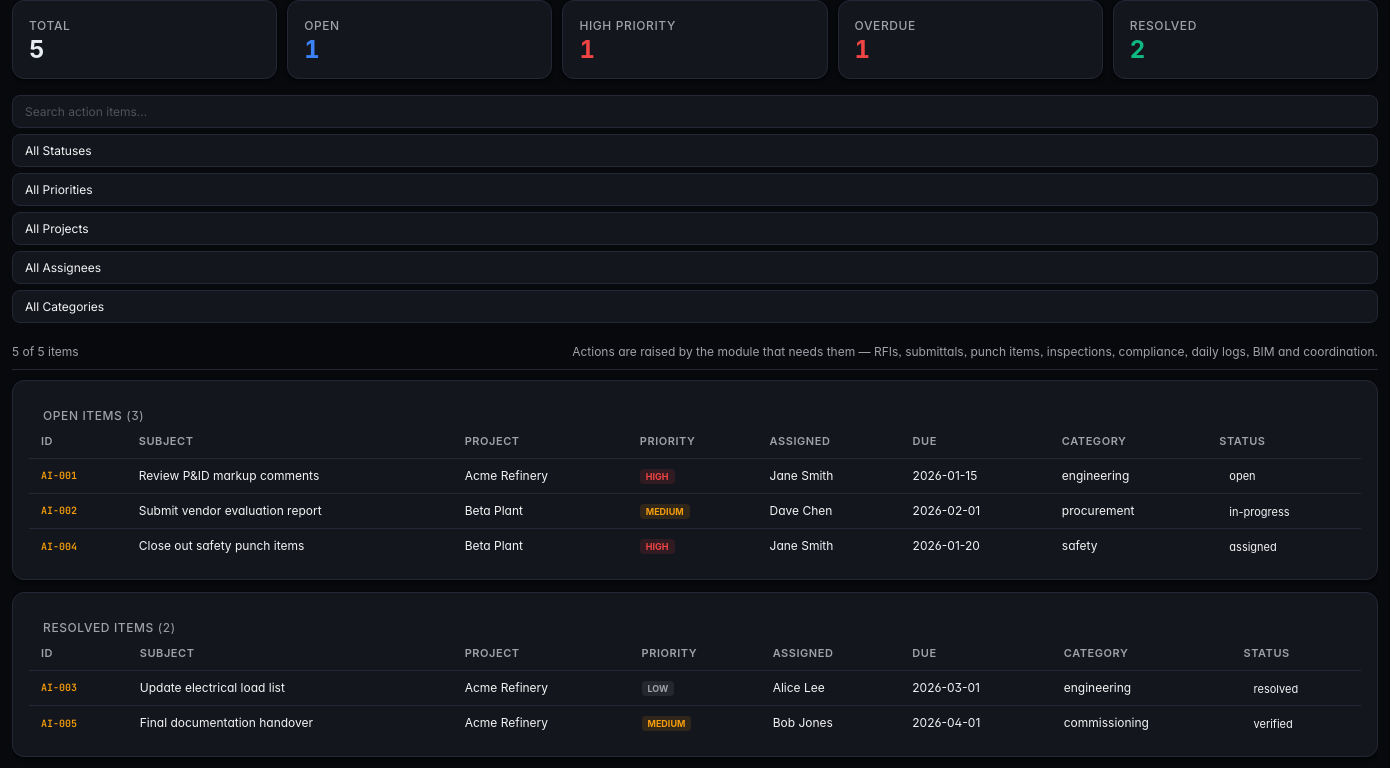
it: ActionItemsView — filters › status filter shows only matching items
This screenshot has width=1390, height=768.
Select "resolved" in the dropdown named "filter by status": (695, 150) [12, 134, 1378, 167]
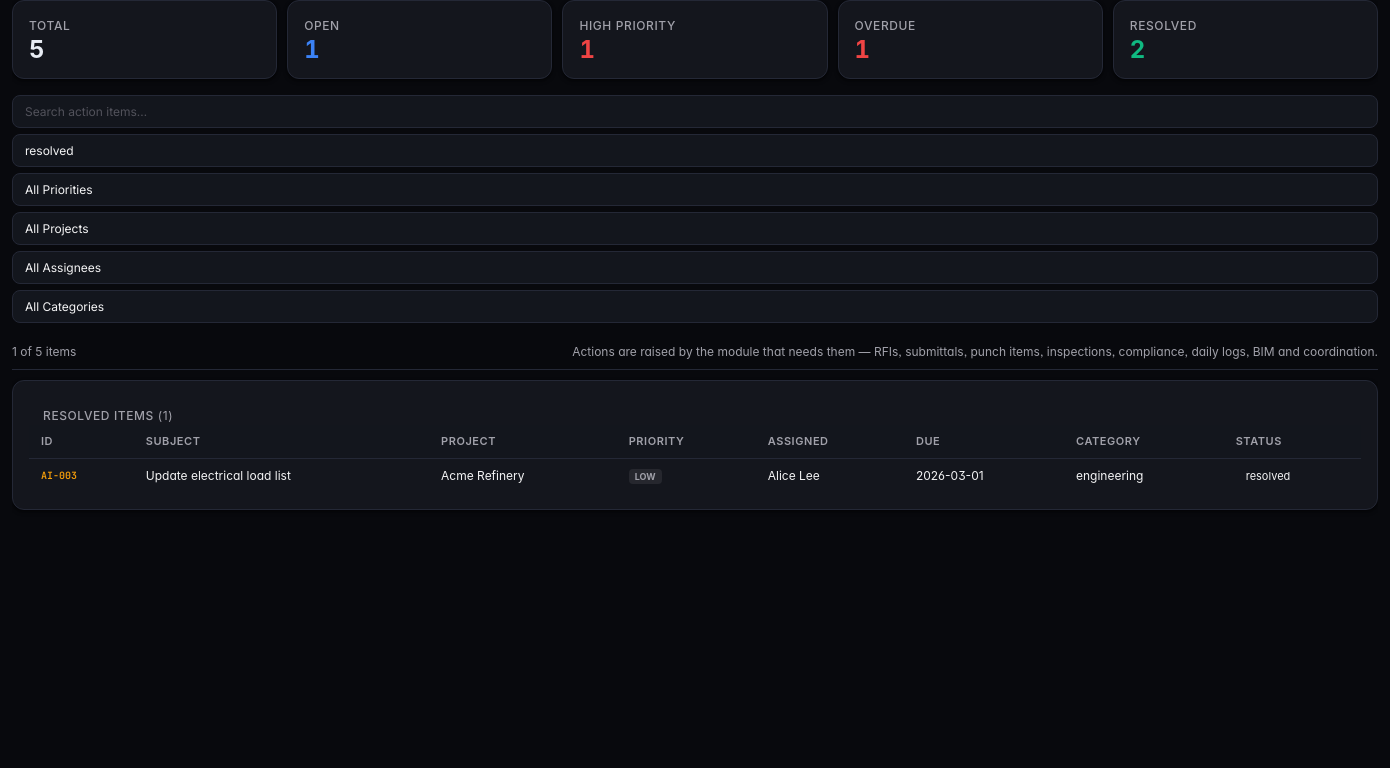
Expected: the text "AI-003" is shown, [29, 458, 134, 493]
Expected: the text "AI-001" is gone
